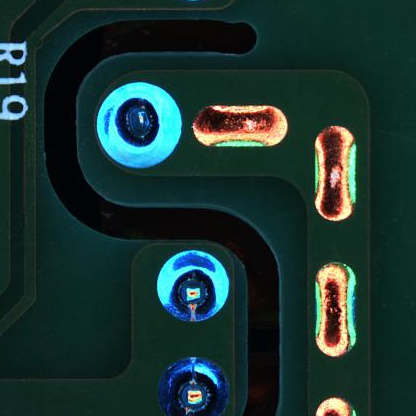spot: (89, 77, 184, 174), (144, 240, 235, 334)
